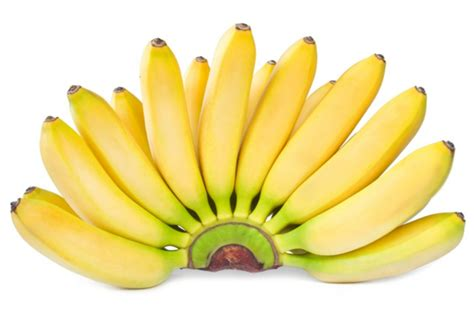banana: (257, 52, 386, 218), (278, 84, 429, 225), (286, 136, 456, 256), (38, 114, 178, 251), (64, 82, 192, 229), (7, 199, 178, 290), (232, 34, 319, 209), (138, 35, 209, 214), (300, 209, 468, 284), (197, 19, 260, 206)
